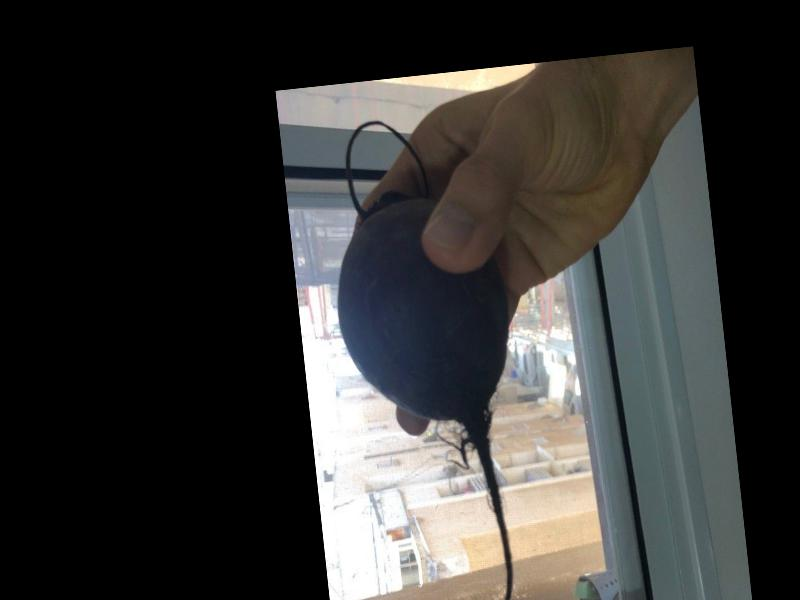Beet: (318, 110, 538, 600)
